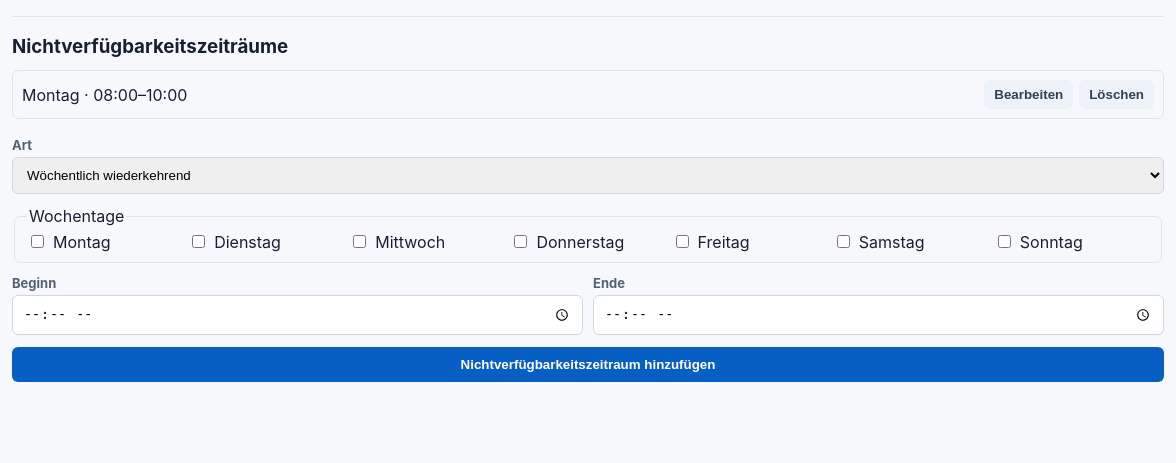
Test: keeps the period and announces a failed deletion
Click the button "Löschen": [1117, 94] box [1079, 80, 1154, 109]
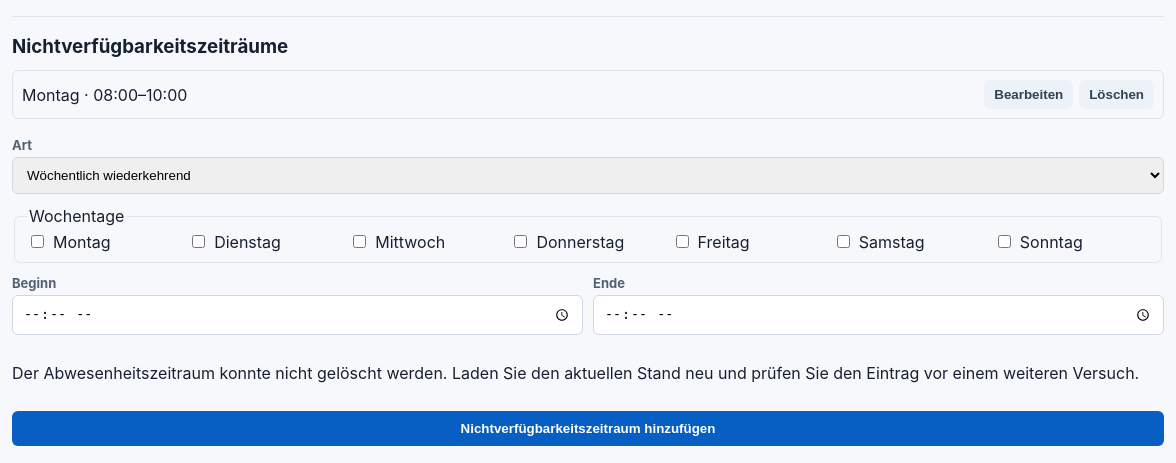
Expected: the text "Montag" is shown, [22, 84, 187, 104]
Expected: the message shows "aktuellen Stand", [12, 363, 1139, 383]
